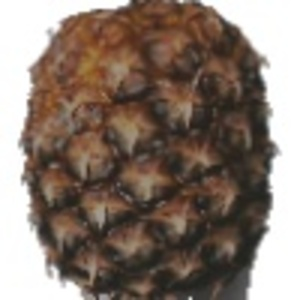abacaxi: (16, 1, 281, 297)
